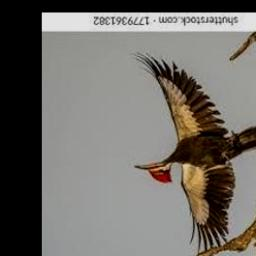Woodpecker: (131, 50, 256, 254)
